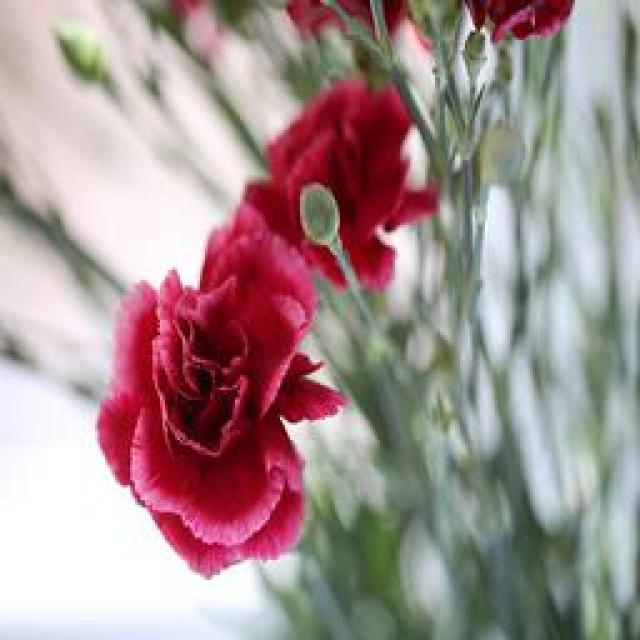carnation: (87, 217, 350, 570)
